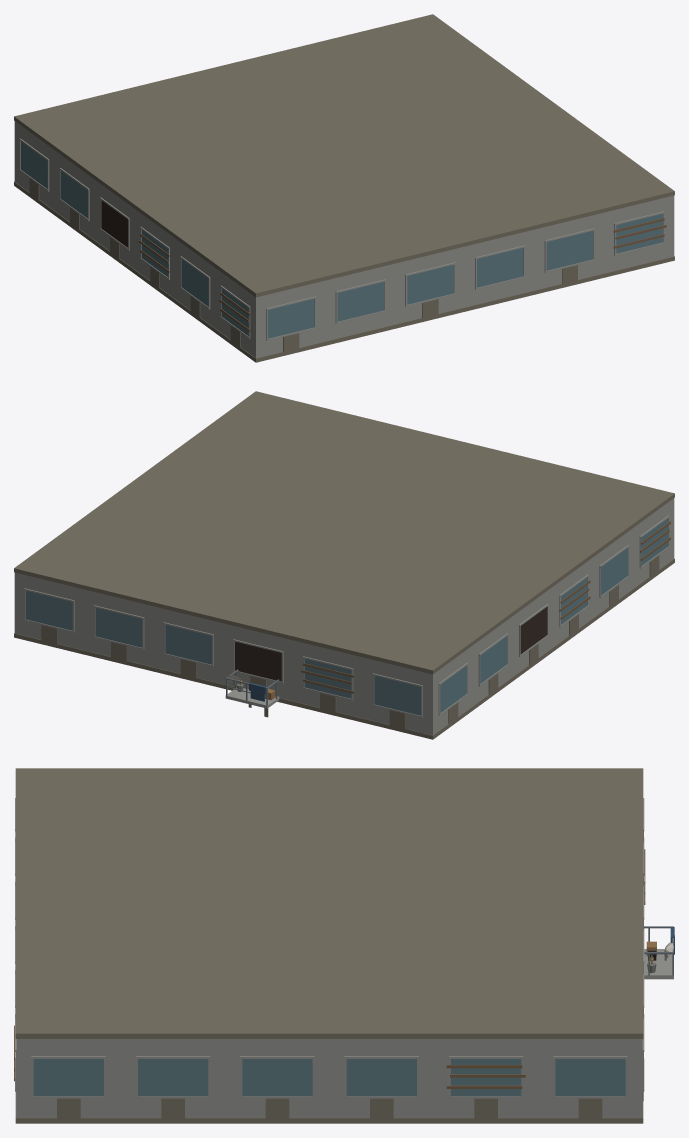
File: tw_slab_24_floor_b.glb
3 views of the same model, one above another, from view 1: azimuth 30°, elevation 25°; view 2: azimuth 150°, elevation 25°; view 3: azimuth 270°, elevation 25° (orthographic). The views are drawn at different scales.
Visible parts, largest first — view 1: tw_slab_24_floor_b; view 2: tw_slab_24_floor_b; view 3: tw_slab_24_floor_b.
Boxes of the visible parts, left/top/right/bottom form: tw_slab_24_floor_b: left=14, top=14, right=674, bottom=362; tw_slab_24_floor_b: left=14, top=391, right=674, bottom=739; tw_slab_24_floor_b: left=14, top=768, right=674, bottom=1123.
Bounding box in the file's own units: 24.2 × 4.78 × 25.34.
Materials: 3 (3 with a texture image).
